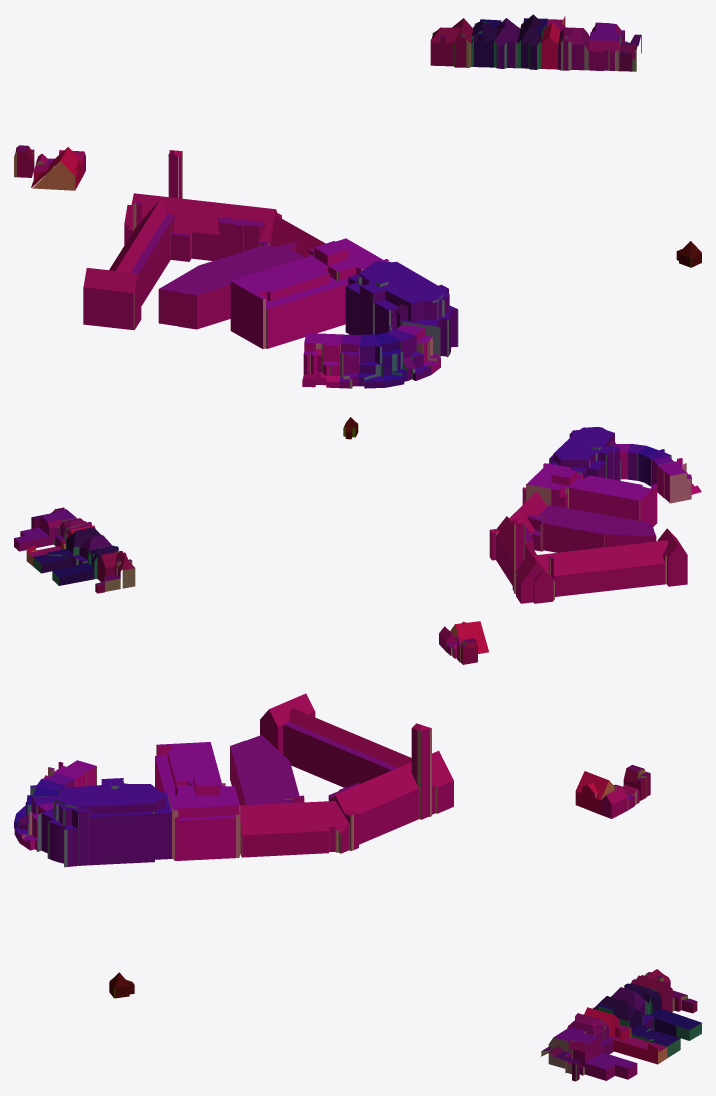
File: buildings_6_8.glb
3 views of the same model, one above another, from view 1: azimuth 30°, elevation 25°; view 2: azimuth 150°, elevation 25°; view 3: azimuth 270°, elevation 25° (orthographic). The views are drawn at different scales.
Visible parts, largest first — view 1: buildings_6_8; view 2: buildings_6_8; view 3: buildings_6_8.
Boxes of the visible parts, left/top/right/bottom form: buildings_6_8: left=14, top=14, right=701, bottom=388; buildings_6_8: left=14, top=417, right=701, bottom=664; buildings_6_8: left=14, top=693, right=701, bottom=1081.
Bounding box in the file's own units: 244 × 30.52 × 208.
